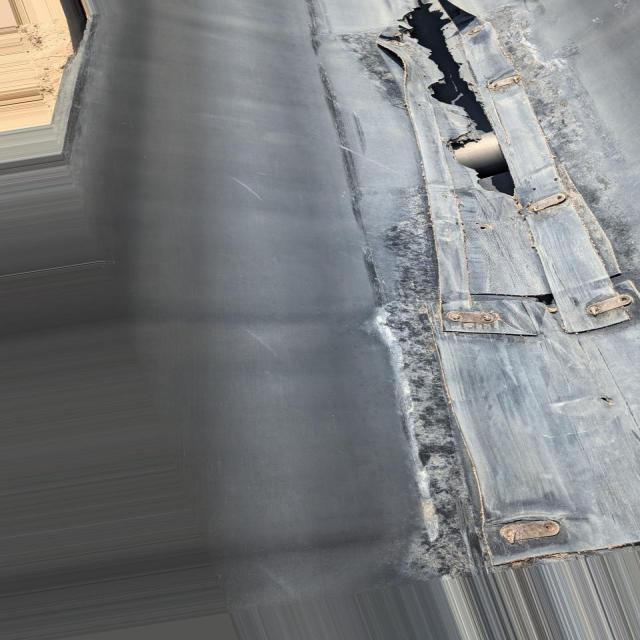Hole: (407, 7, 513, 193)
patch work: (376, 0, 640, 564)
